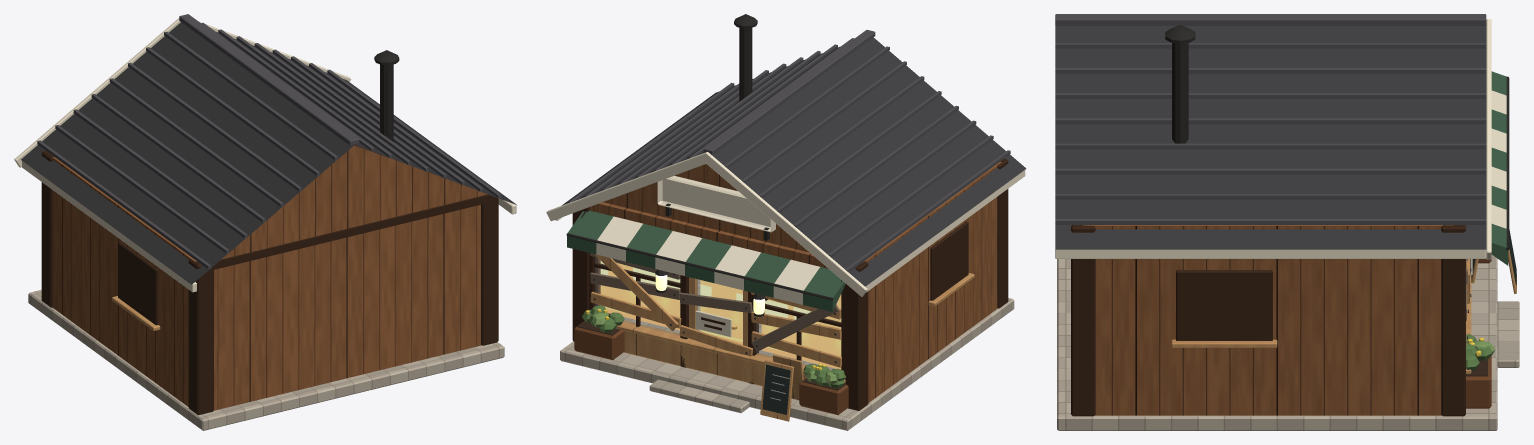
Rendered from cafe.glb.
3 renders of one model, left to right at view 1: azimuth 30°, elevation 25°; view 2: azimuth 150°, elevation 25°; view 3: azimuth 270°, elevation 25°, orthographic. The views are drawn at different scales.
Parts seen in each view (by area): view 1: cafe_walls, cafe_roof, cafe_front; view 2: cafe_roof, cafe_walls, cafe_front, cafe_deco, cafe_planks, cafe_glass, cafe_open; view 3: cafe_roof, cafe_walls, cafe_deco, cafe_front, cafe_open.
Boxes of the visible parts, x1,y1,x2,y2 form: cafe_walls: (28,145,504,430); cafe_roof: (14,14,516,292); cafe_front: (41,145,487,307); cafe_roof: (546,14,1026,296); cafe_walls: (560,159,1014,430); cafe_front: (572,164,868,410); cafe_deco: (566,210,848,414); cafe_planks: (590,253,841,367); cafe_glass: (595,257,841,370); cafe_open: (760,354,803,421); cafe_roof: (1055,14,1491,259); cafe_walls: (1057,225,1519,430); cafe_deco: (1466,71,1509,408); cafe_front: (1441,225,1471,416); cafe_open: (1471,229,1516,293).
Size of the model in its own units: 5.54 by 4.56 by 5.27.
25 materials, 5 textured.
